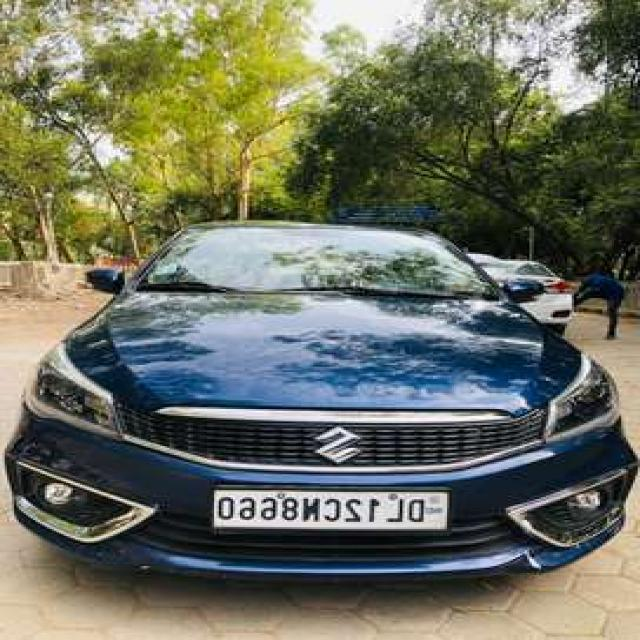license_plate: (203, 483, 453, 537)
